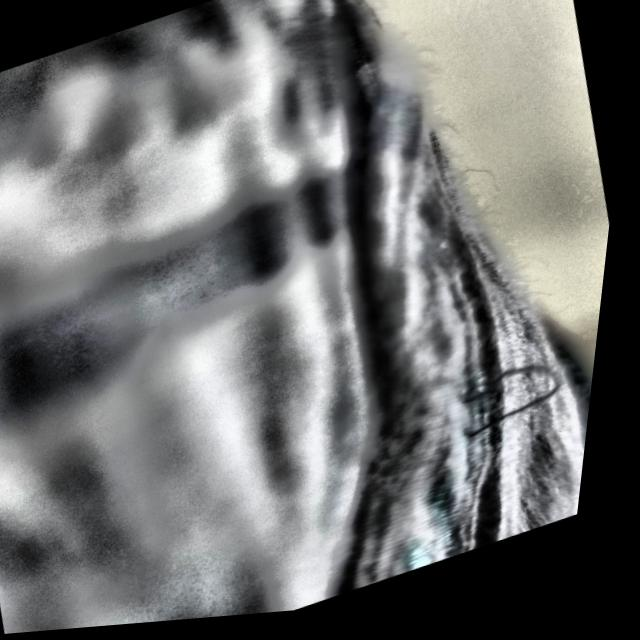Stitch: (420, 343, 606, 477)
